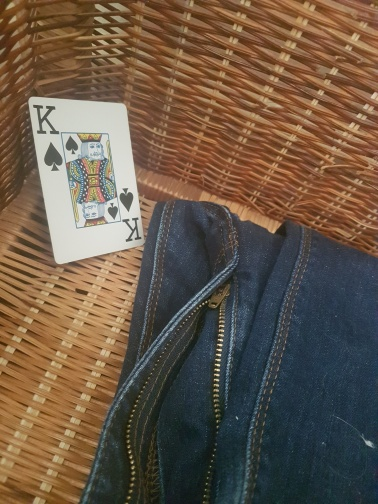king: (28, 97, 146, 264)
